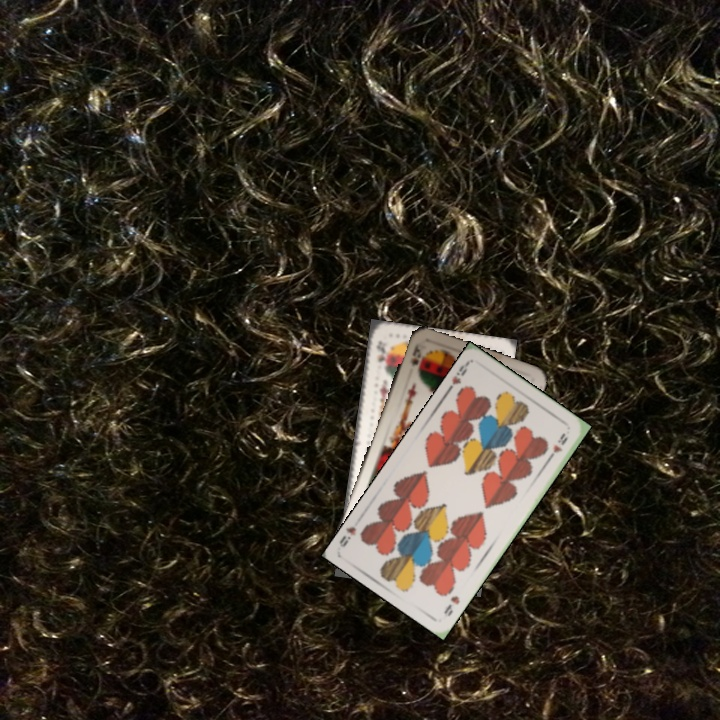H9: (443, 358, 471, 394), (440, 591, 462, 619)
SK: (407, 339, 427, 369), (372, 337, 389, 367)
